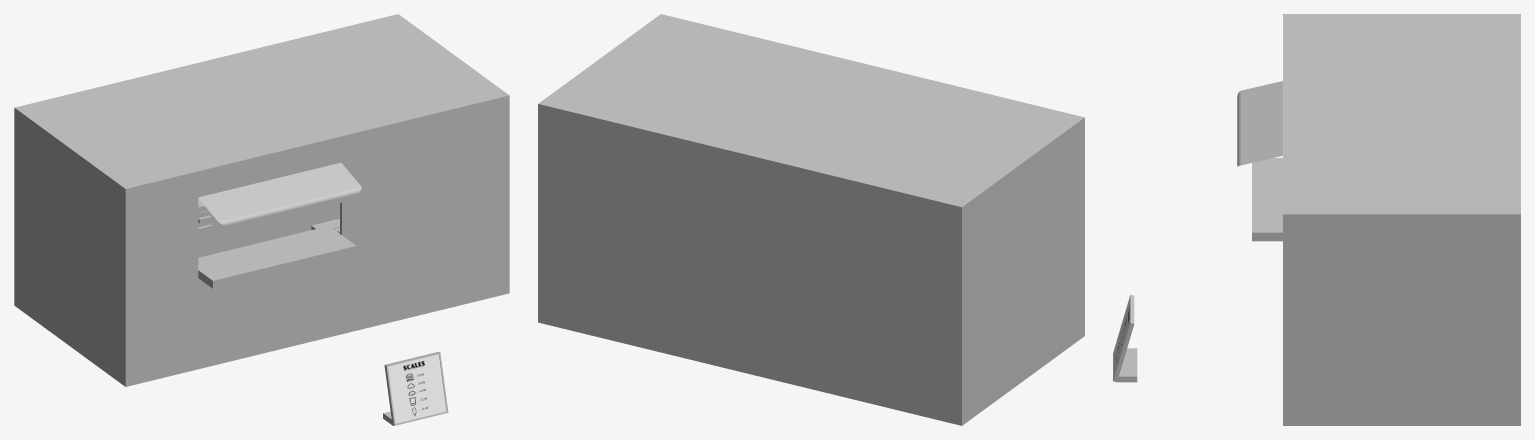
Rendered from Menu.fbx.
3 views of the same model, side by side, from view 1: azimuth 30°, elevation 25°; view 2: azimuth 150°, elevation 25°; view 3: azimuth 270°, elevation 25° (orthographic). The views are drawn at different scales.
Parts seen in each view (by area): view 1: Food Truck, Menu, Counter 3, Counter 4; view 2: Food Truck; view 3: Food Truck, Menu.
Boxes of the visible parts, <box> form: Food Truck: <box>14,14,509,386</box>; Menu: <box>383,352,448,425</box>; Counter 3: <box>210,213,264,254</box>; Counter 4: <box>264,207,318,241</box>; Food Truck: <box>538,14,1084,425</box>; Food Truck: <box>1237,14,1520,425</box>; Menu: <box>1113,295,1137,382</box>.
Size of the model in its own units: 433 by 243 by 372.
